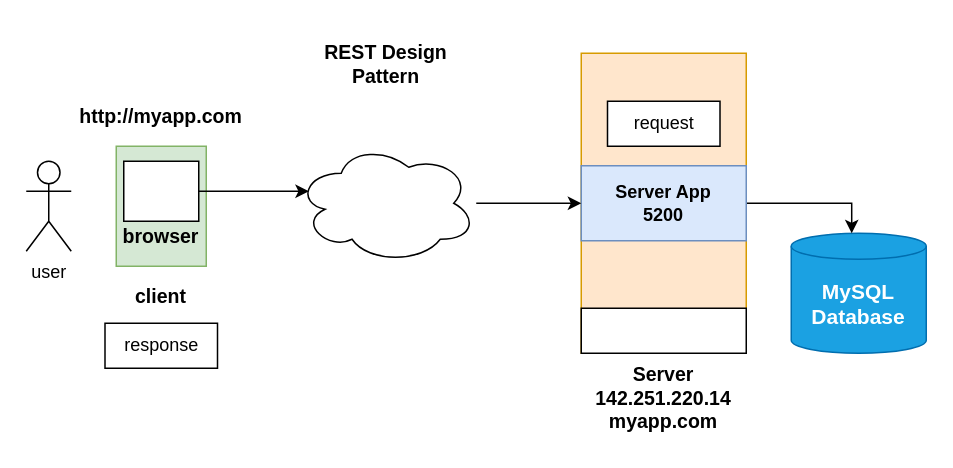
Some shapes in this 953 by 468 pixel diagram are drawn without their labels. The shapes that lost their labels are listed below. From the top down, each one's centre as x and y in pixels, then its label:
point 385,202: internet
point 663,330: OS
